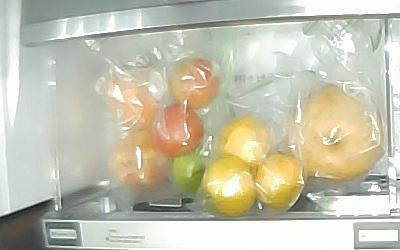peach_vinyl: (112, 129, 171, 193), (104, 67, 157, 130)
pear_vinyl: (288, 85, 384, 181)
tangerine_vinyl: (204, 155, 256, 217), (220, 115, 273, 169), (254, 152, 302, 211)
tomato_vinyl: (150, 104, 203, 156), (168, 57, 218, 109), (170, 150, 207, 196)
